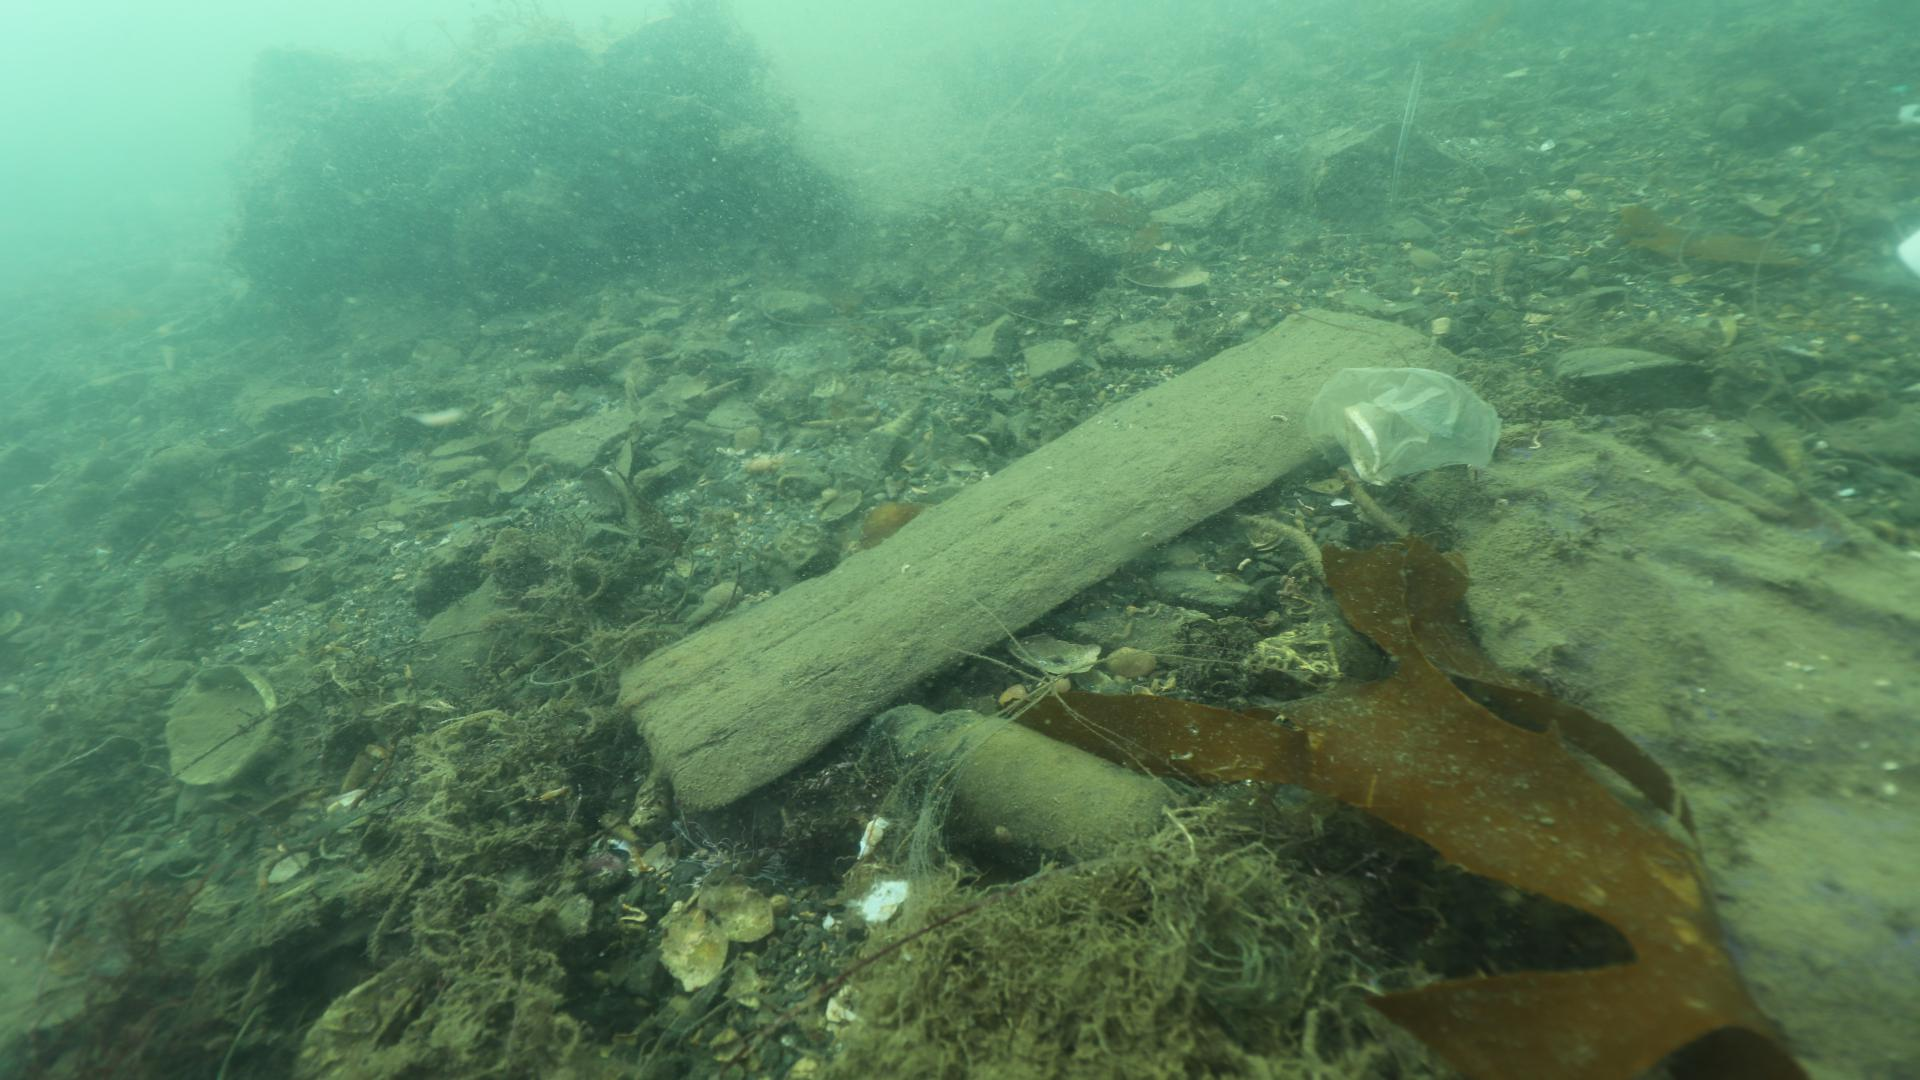wood: (615, 305, 1464, 815)
